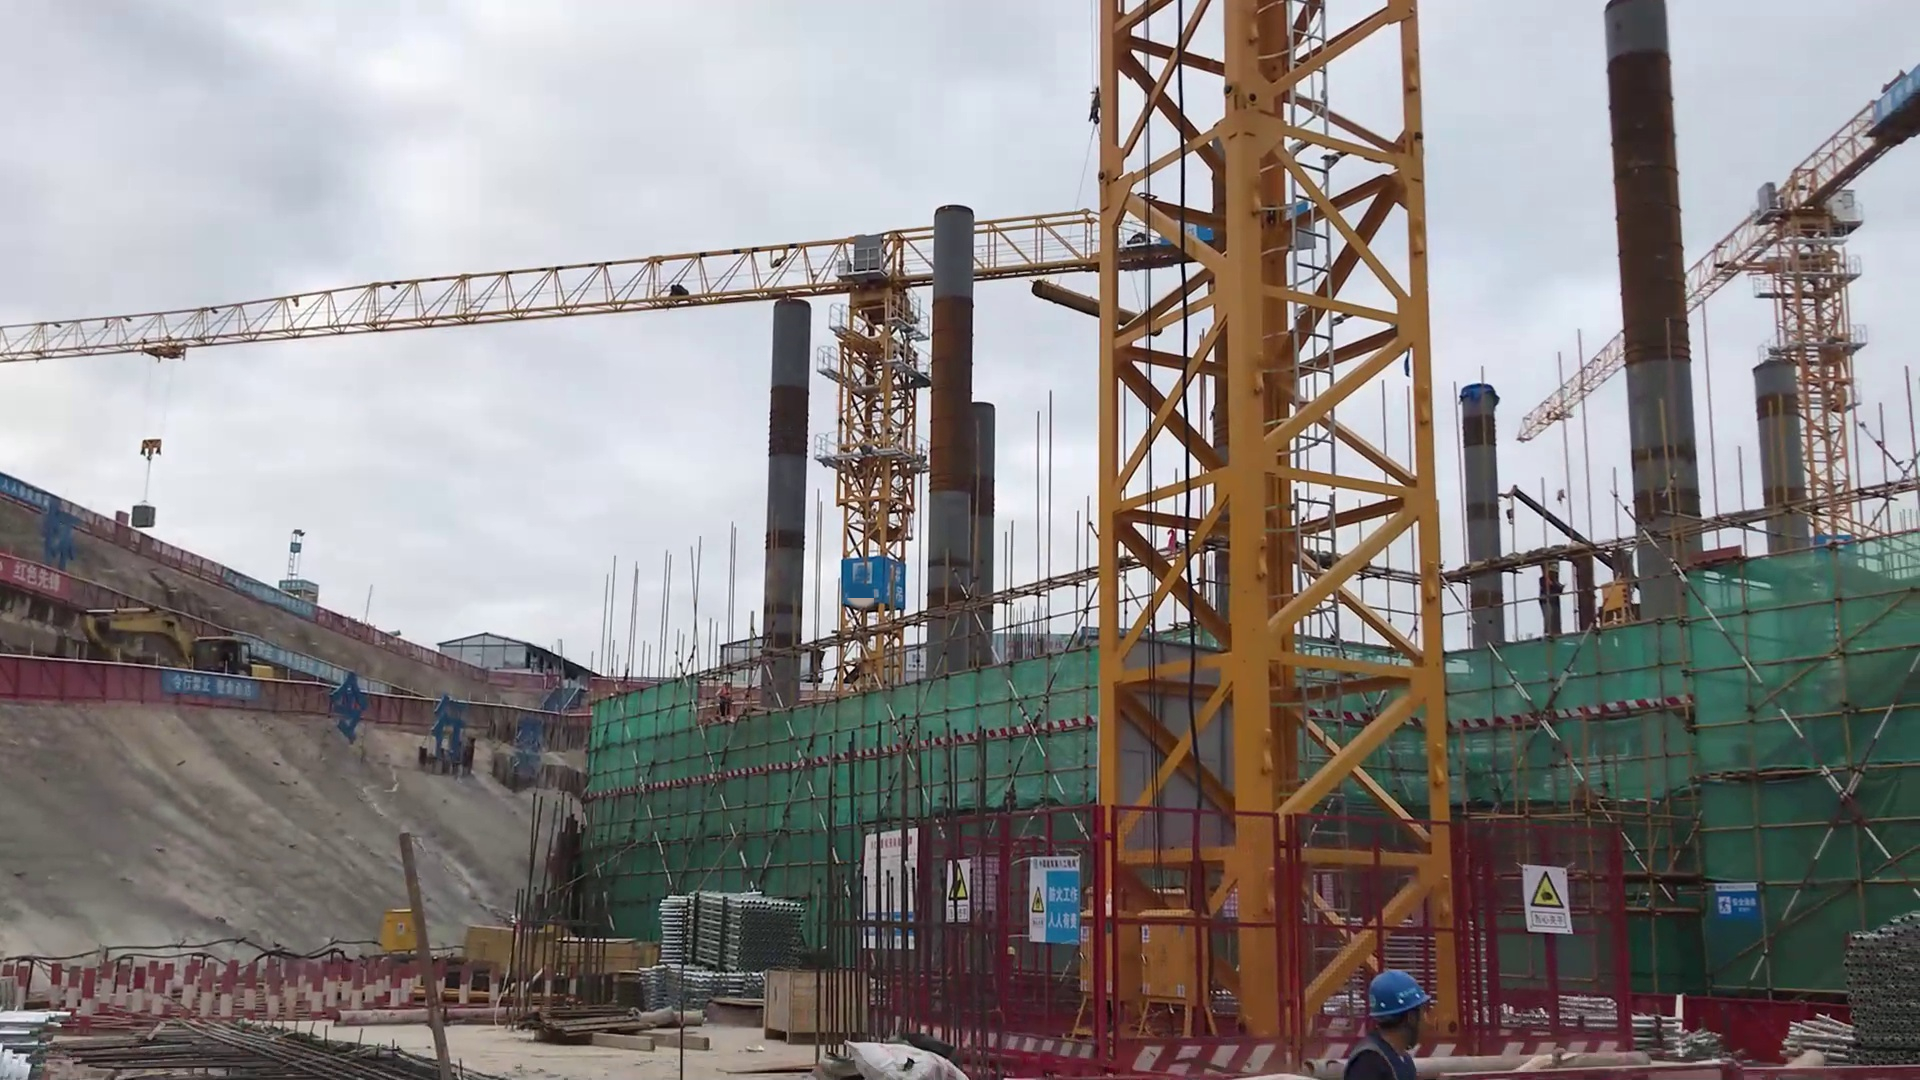ebox: (1145, 906, 1214, 1044), (1081, 904, 1142, 1036), (377, 898, 419, 957), (1598, 579, 1633, 627)
helmet: (1367, 968, 1434, 1019)
hook: (139, 436, 163, 463)
person: (1345, 961, 1436, 1080), (715, 678, 735, 719)
scaffold: (652, 882, 801, 968)
slogan: (859, 826, 929, 974), (1022, 845, 1093, 941), (158, 670, 270, 718), (1518, 856, 1580, 941), (1707, 871, 1770, 937), (7, 555, 74, 605), (933, 853, 977, 926)
wood: (756, 964, 888, 1042), (558, 927, 656, 985)
